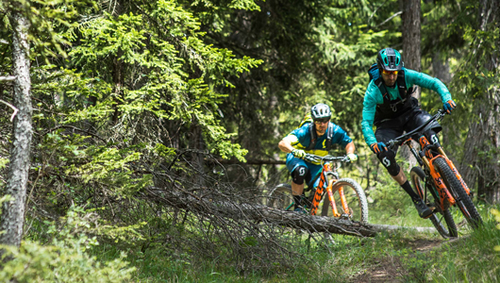bikerider: (355, 42, 493, 242), (259, 91, 364, 228)
